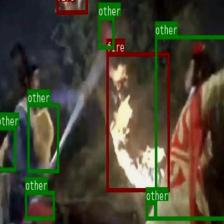fire: (106, 52, 169, 192), (56, 0, 87, 13)
